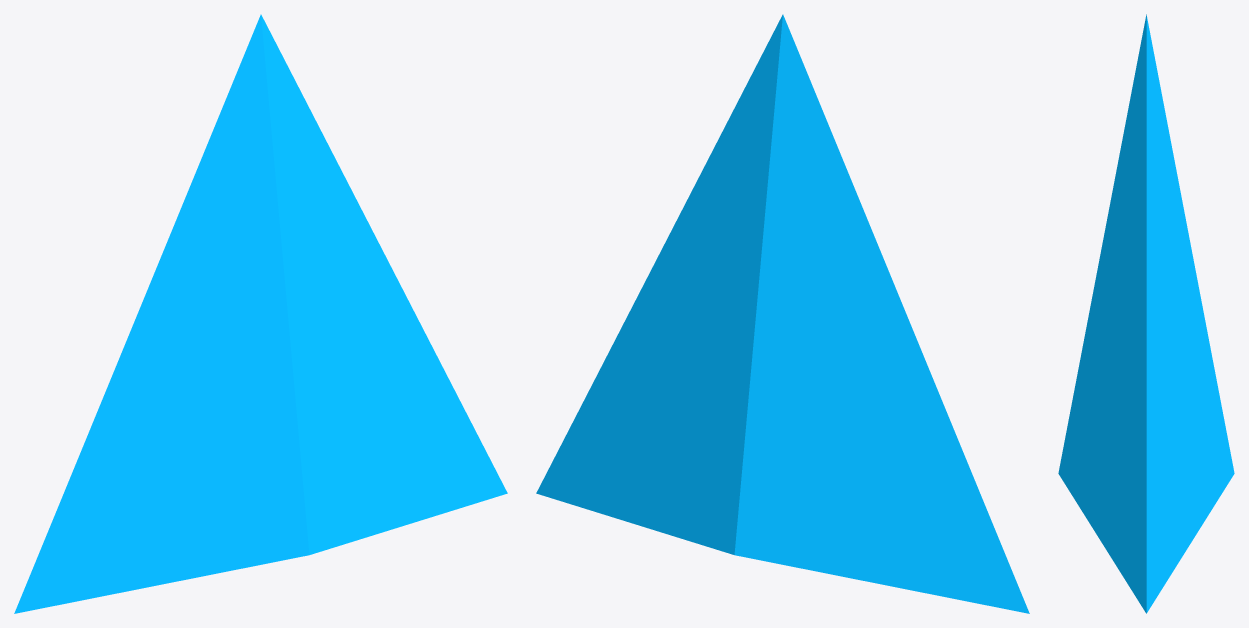
Rendered from arrowheadSpacecraft.fbx.
3 views of the same model, side by side, from view 1: azimuth 30°, elevation 25°; view 2: azimuth 150°, elevation 25°; view 3: azimuth 270°, elevation 25° (orthographic). The views are drawn at different scales.
Visible parts, largest first — view 1: arrow_model; view 2: arrow_model; view 3: arrow_model.
Boxes of the visible parts, box(x1,y1,x2,y2) form: arrow_model: box(14, 14, 507, 613); arrow_model: box(536, 14, 1029, 613); arrow_model: box(1058, 14, 1234, 613).
Bounding box in the file's own units: 2940 × 3071 × 1000.
